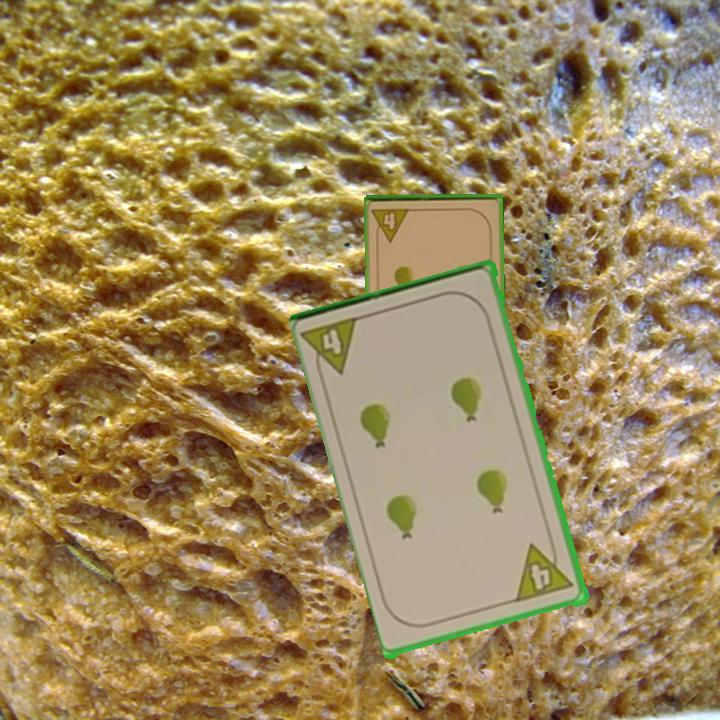4p: (300, 313, 365, 383), (513, 537, 577, 605), (368, 205, 413, 244)
